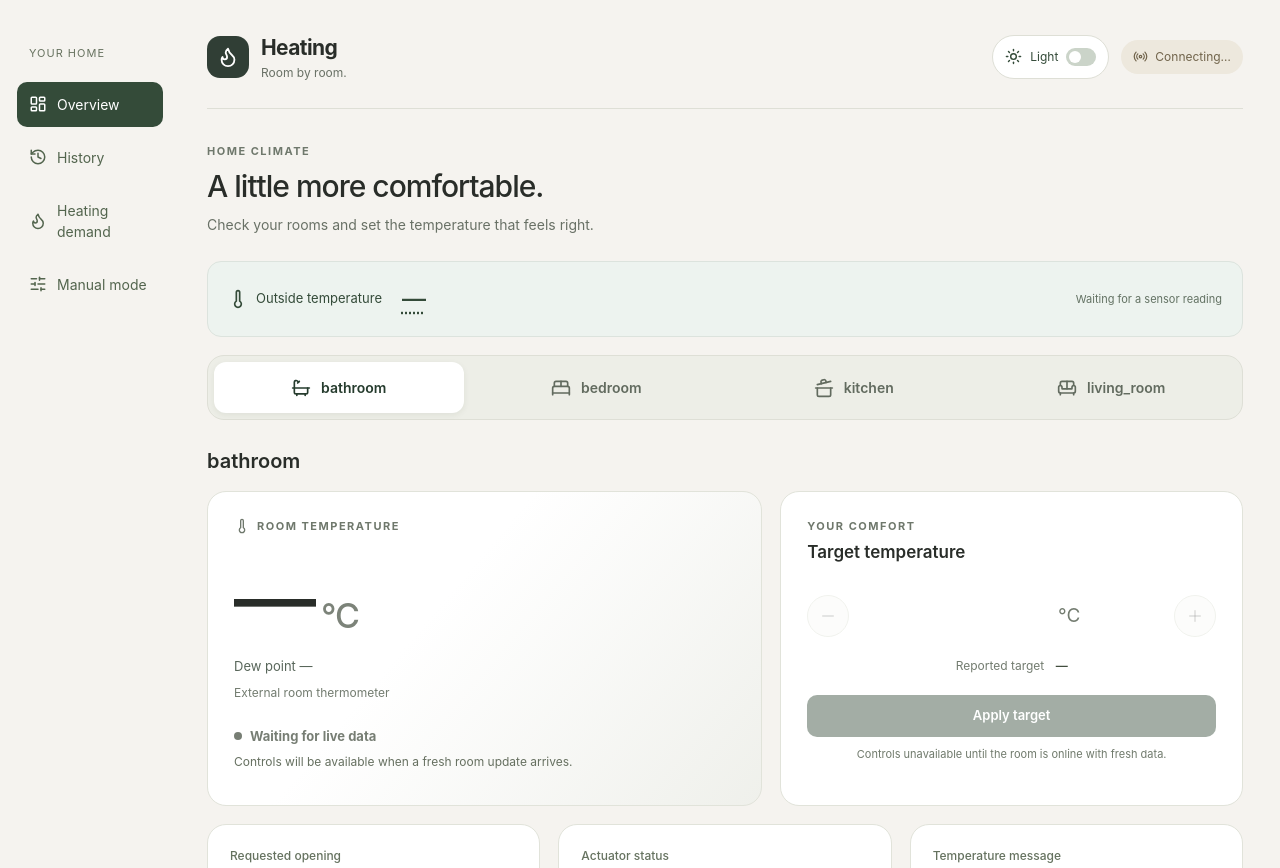
Test: navigates to History and back while keeping the live socket
This screenshot has width=1280, height=868.
expect the tab "bathroom" is shown: met, box [214,362,464,413]
Click the link "History". click: click(67, 157)
box: [29,148,104,166]
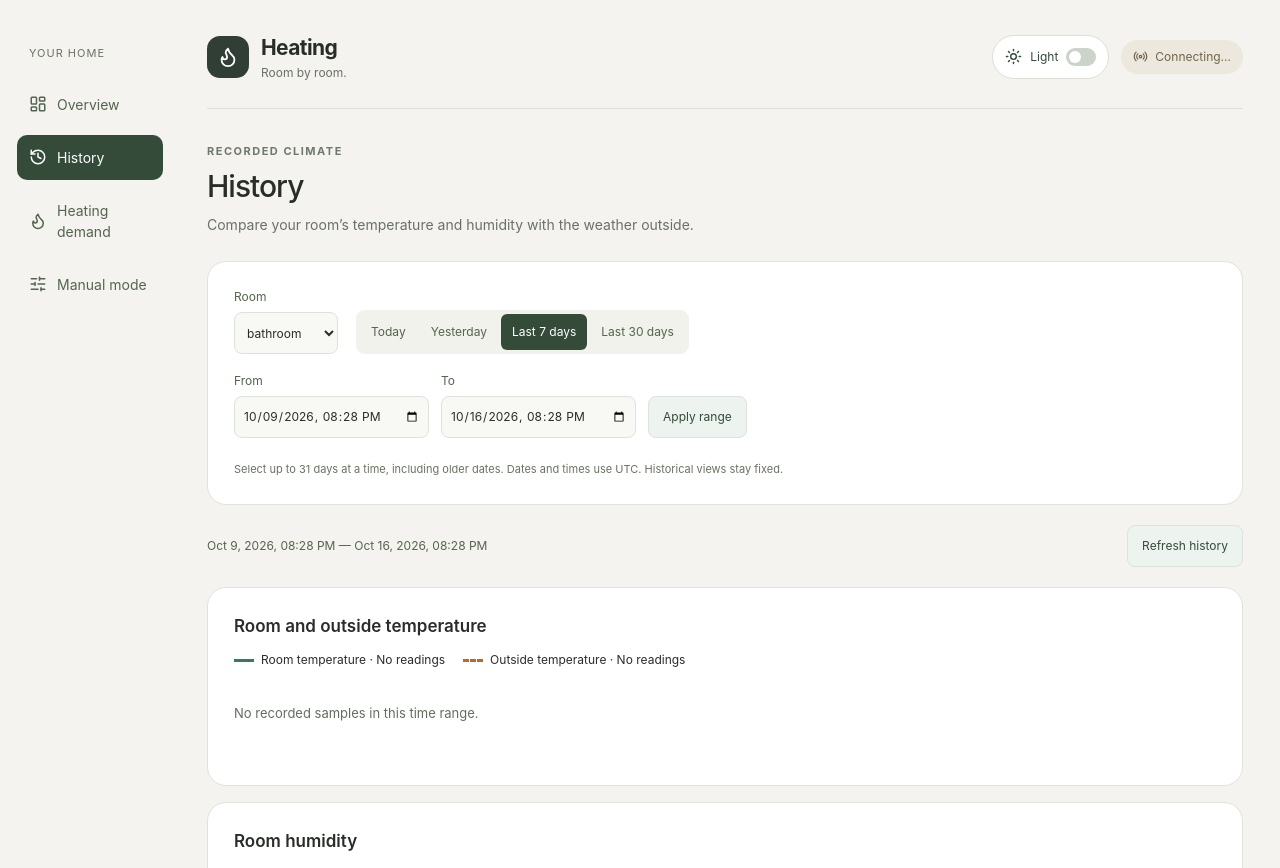
expect the dropdown labelled "Room" is shown: met, box [234,312,338,354]
Click the link "Overview". click: click(74, 104)
box: [29,95,120,113]
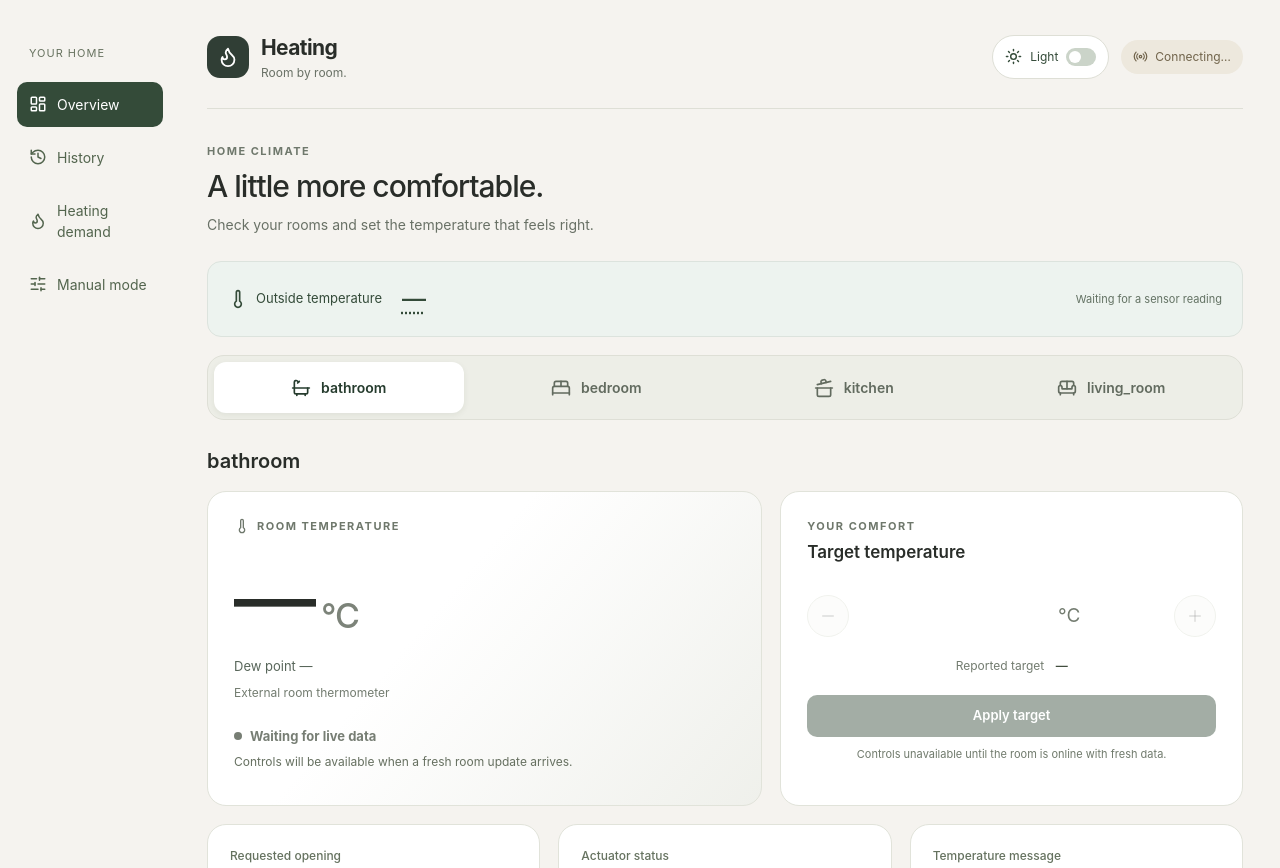
expect the tab "bathroom" is shown: met, box [214,362,464,413]
